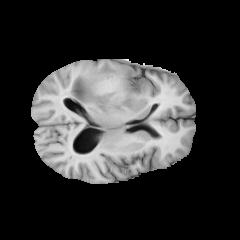glioma: (70, 63, 155, 111)
